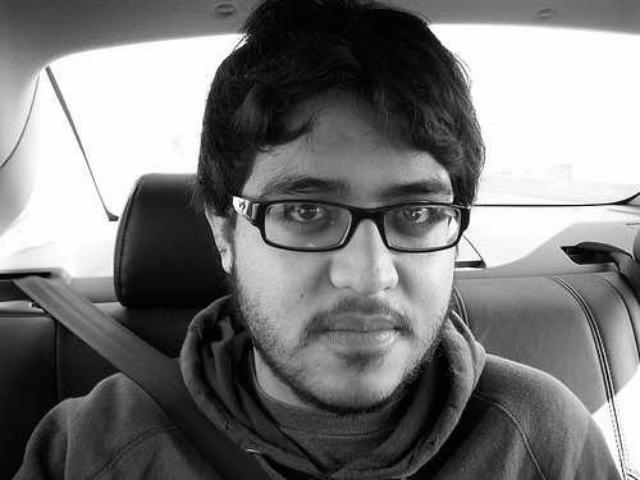SafeDriving: (273, 190, 344, 236), (382, 192, 449, 232)
Seatbelt: (8, 270, 274, 480)
